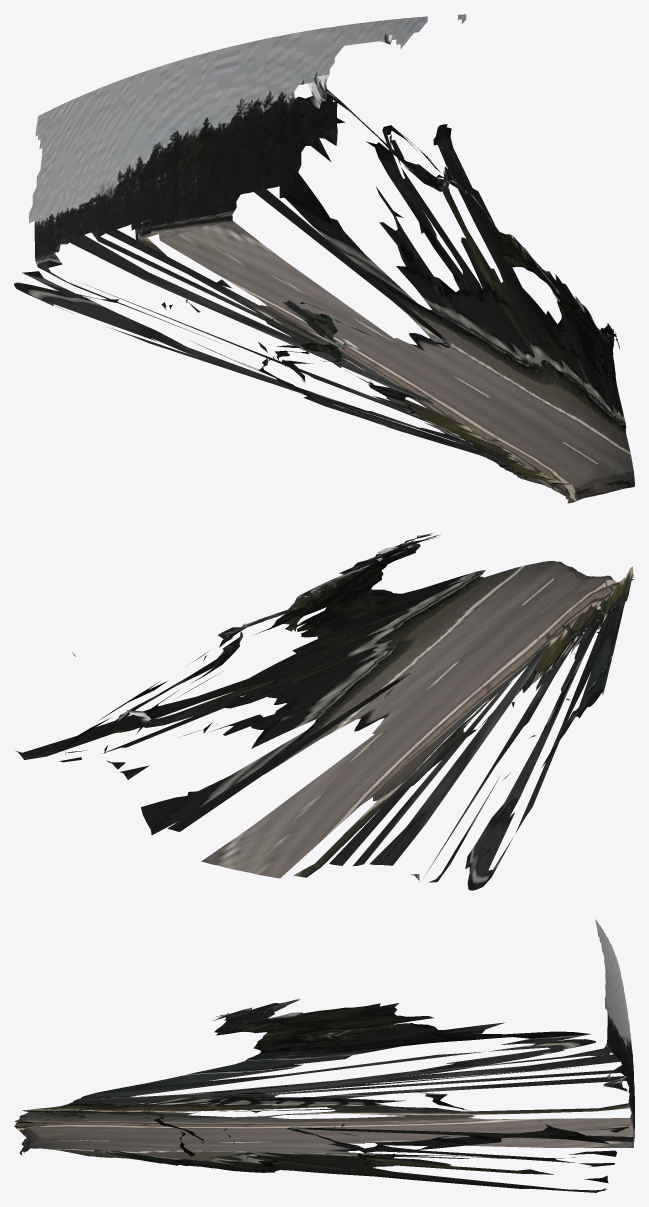
3 views of the same model, one above another, from view 1: azimuth 30°, elevation 25°; view 2: azimuth 150°, elevation 25°; view 3: azimuth 270°, elevation 25° (orthographic). The views are drawn at different scales.
Visible parts, largest first — view 1: defaultobject; view 2: defaultobject; view 3: defaultobject.
Boxes of the visible parts, x1,y1,x2,y2 form: defaultobject: (14,14,634,503); defaultobject: (15,533,634,890); defaultobject: (14,919,634,1192).
Bounding box in the file's own units: 30.79 × 11.79 × 44.82.
Materials: 1 (1 with a texture image).
